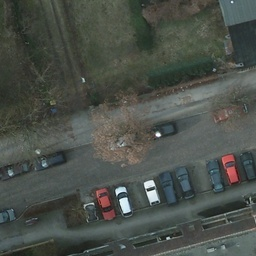car: (143, 121, 178, 143), (105, 130, 140, 150), (35, 148, 66, 170), (213, 103, 247, 123), (207, 155, 224, 193), (0, 159, 31, 179), (221, 152, 240, 184), (98, 187, 116, 220), (115, 185, 133, 218), (175, 165, 192, 198), (161, 172, 177, 205), (143, 177, 159, 207), (81, 201, 97, 227), (0, 209, 15, 224)
